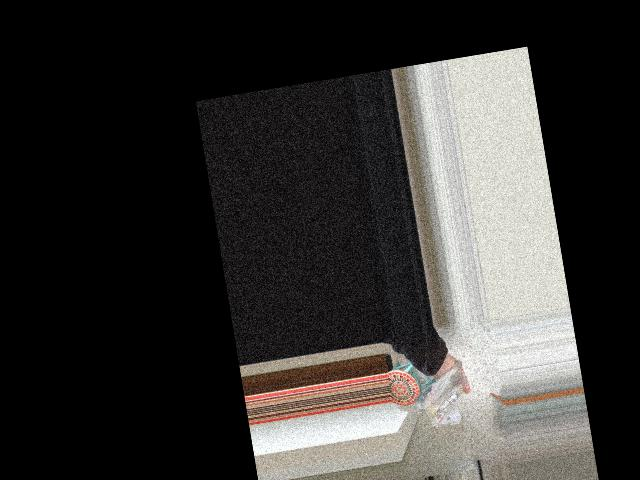cheese: (393, 355, 480, 438)
